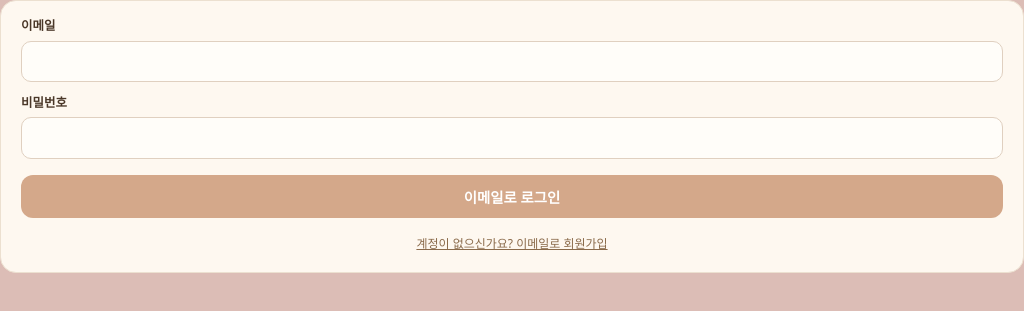
Scenario: EmailAuthForm › rejects an invalid email before submitting and focuses the email field
The image size is (1024, 311).
Type "notanemail" into the field labelled "이메일" at (512,61), box [21,40,1003,82]
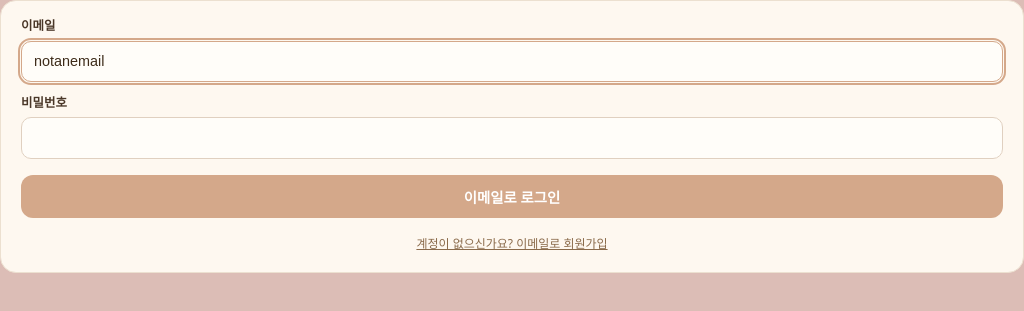
Type "secret-pw" into the password field labelled "비밀번호" at (512,138), box [21,117,1003,159]
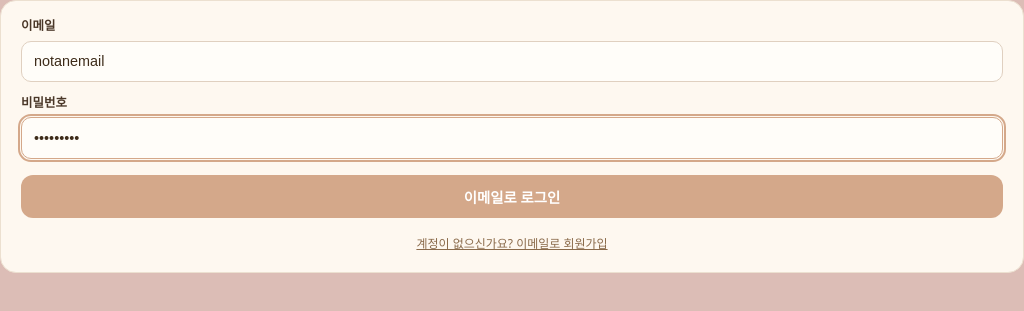
Click the button "이메일로 로그인" at (512,196), box [21,175,1003,218]
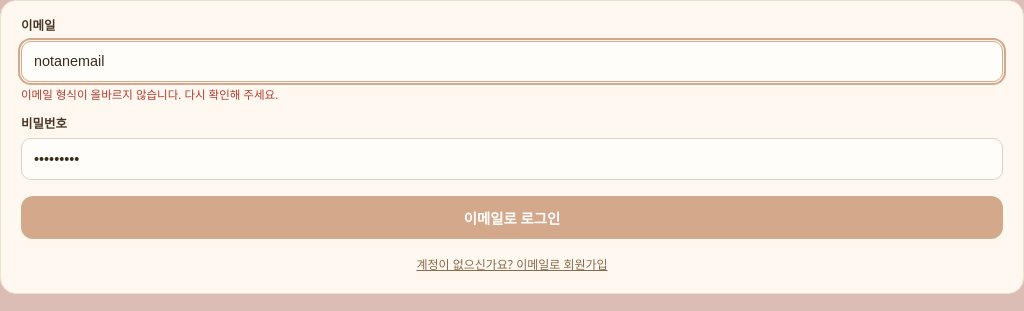
Expected: the text "이메일 형식이 올바르지 않습니다. 다시 확인해 주세요." is shown, [21,87,278,102]
